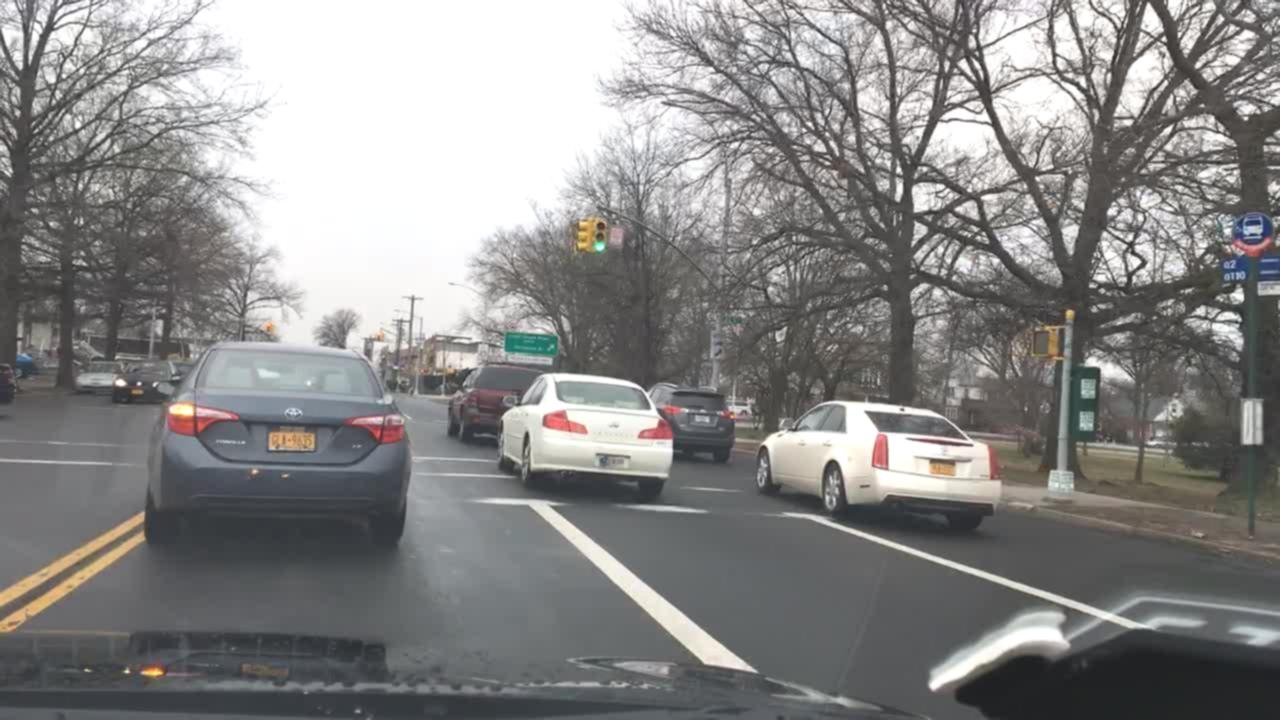Infiniti: (604, 419, 624, 432)
Toyota: (276, 403, 311, 421)
